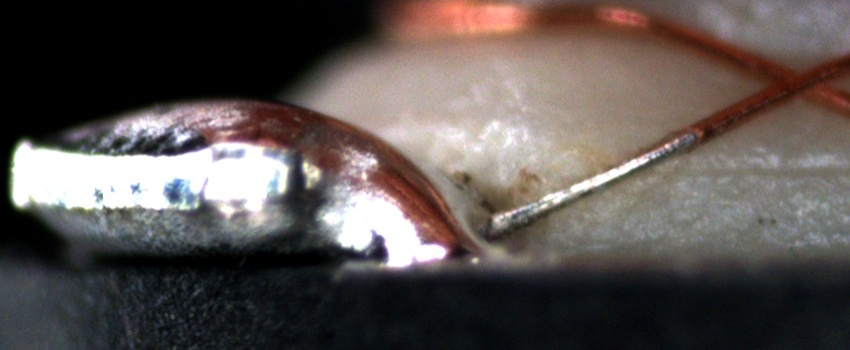CL: (754, 55, 834, 109)
DL: (686, 146, 850, 208)
TS: (490, 128, 696, 234)
